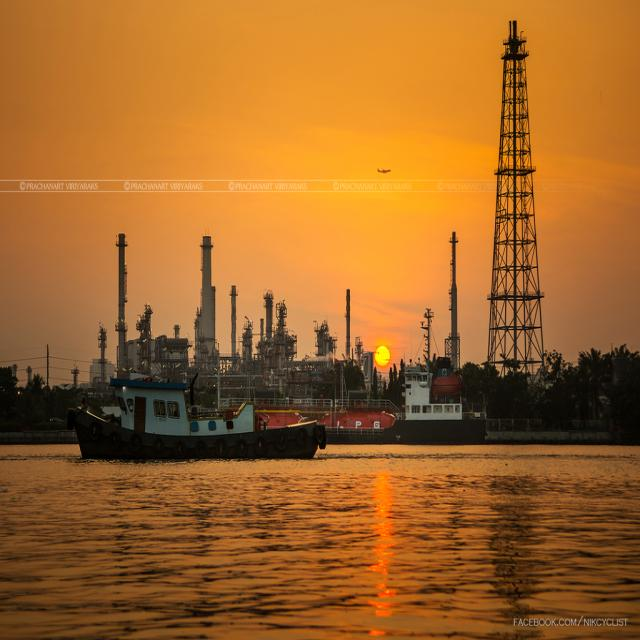Boat: (68, 352, 341, 461)
